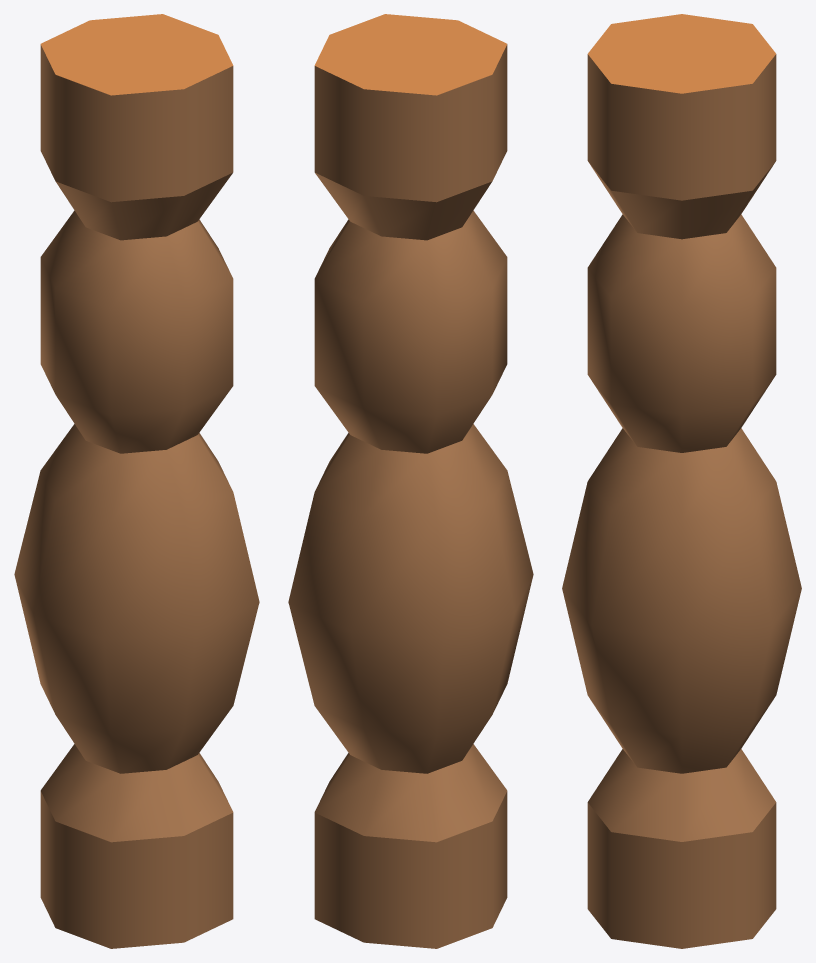
File: Balcony Beam.fbx
3 views of the same model, side by side, from view 1: azimuth 30°, elevation 25°; view 2: azimuth 150°, elevation 25°; view 3: azimuth 270°, elevation 25° (orthographic).
Visible parts, largest first — view 1: Balcony Beam; view 2: Balcony Beam; view 3: Balcony Beam.
Part boxes in pixels (left/top/right/bottom): Balcony Beam: left=14, top=14, right=259, bottom=948; Balcony Beam: left=288, top=14, right=533, bottom=948; Balcony Beam: left=562, top=14, right=801, bottom=948.
Bounding box in the file's own units: 15.89 × 15.89 × 62.5.
